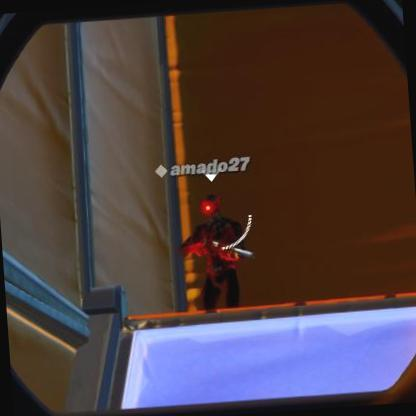person: (188, 195, 249, 308)
